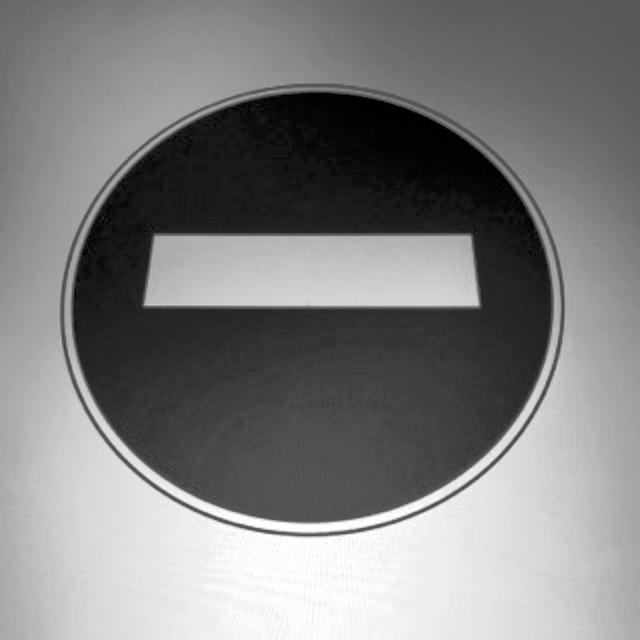NO ENTRY: (55, 84, 571, 538)
